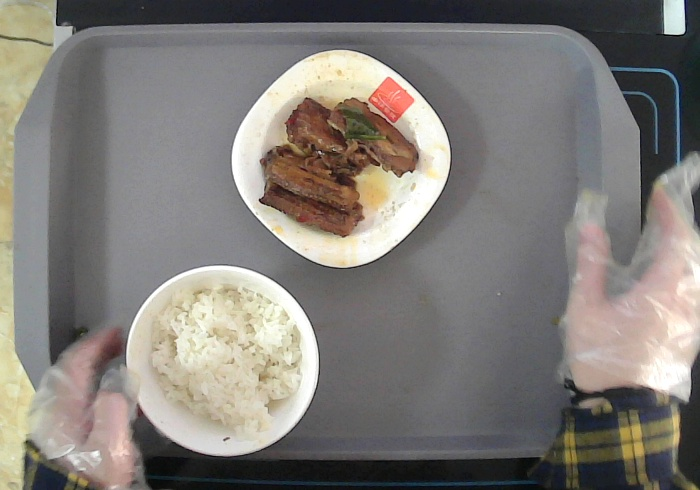SHKJ-Bai_Se_Si_Fang_Cai_Die: (231, 49, 451, 269)
SHKJ-Fan_Wan: (126, 263, 319, 457)
